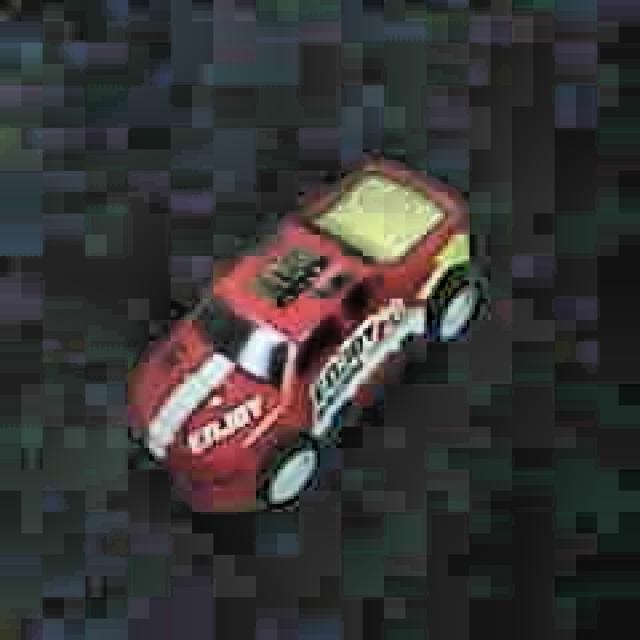car: (118, 146, 483, 519)
